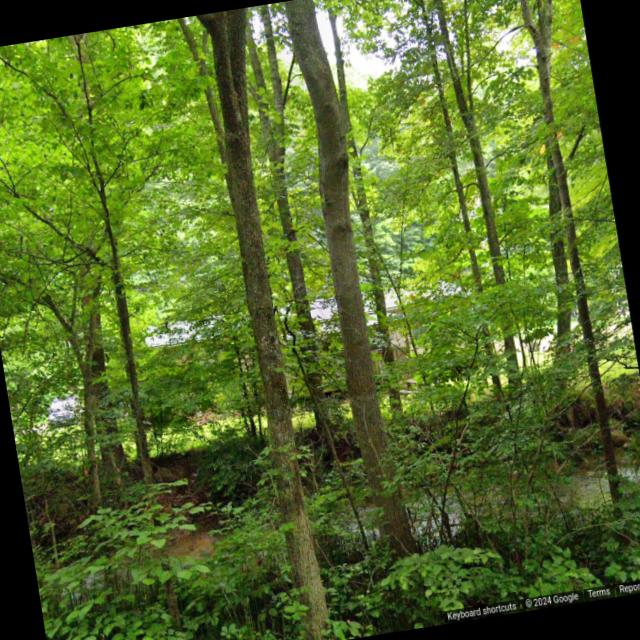House: (140, 276, 480, 428)
